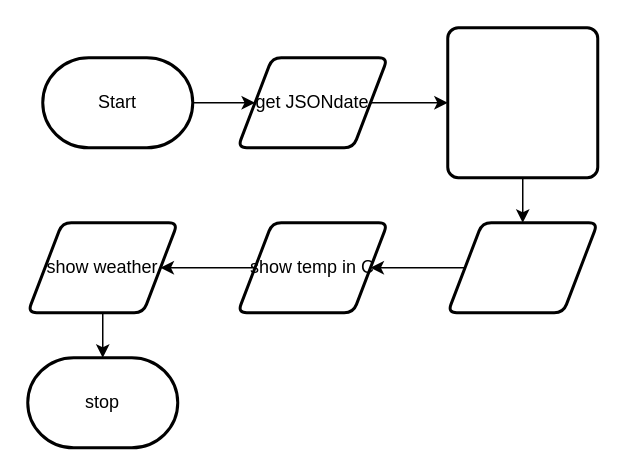
Image size: 629x474. Some labels were removed from this diagram. Each missing label, with the centre of its shape:
"show imgage" belongs at (x=522, y=267).
"tempInC = jsonData.main.temp - 273.15" belongs at (x=522, y=102).
